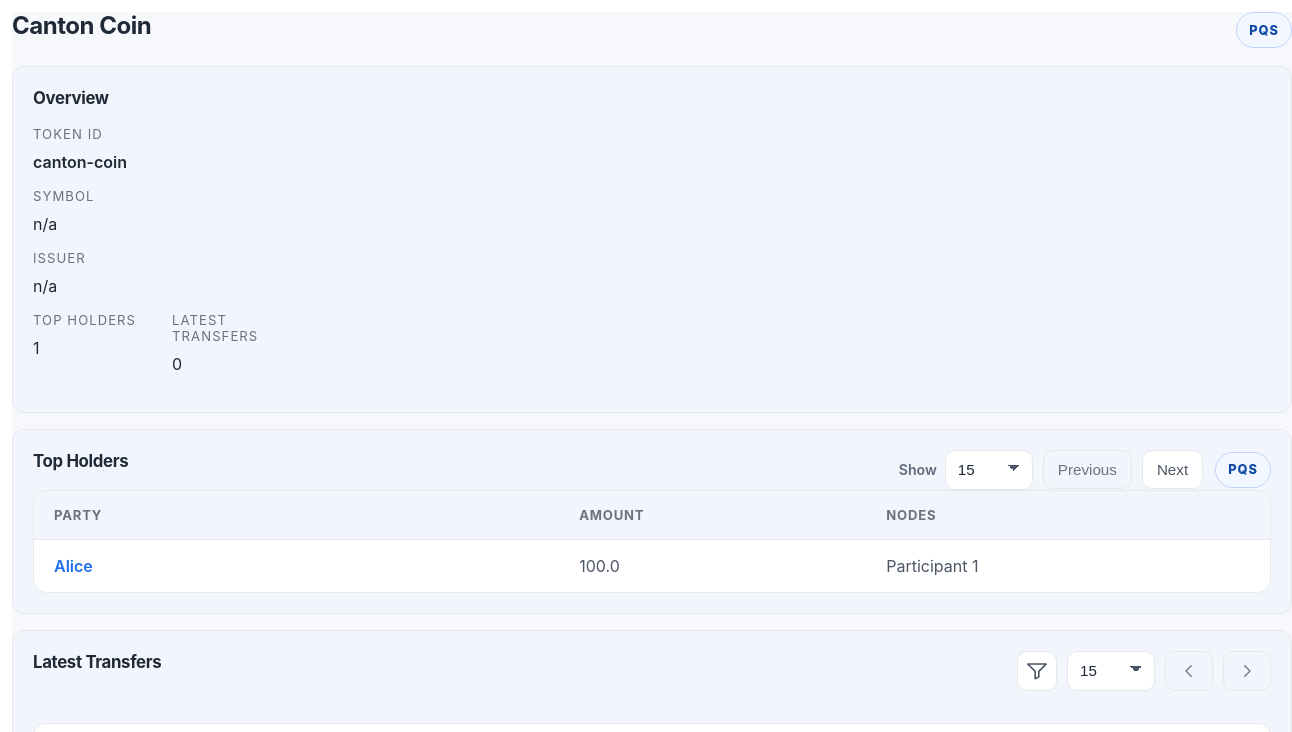
Scenario: TokenDetailView › paginates top holders with holder-specific cursors
Expected: the link "Alice" is shown, x1=54 y1=556 x2=93 y2=576
Click the button "Next". click: (1172, 470)
box: x1=1142 y1=450 x2=1203 y2=489
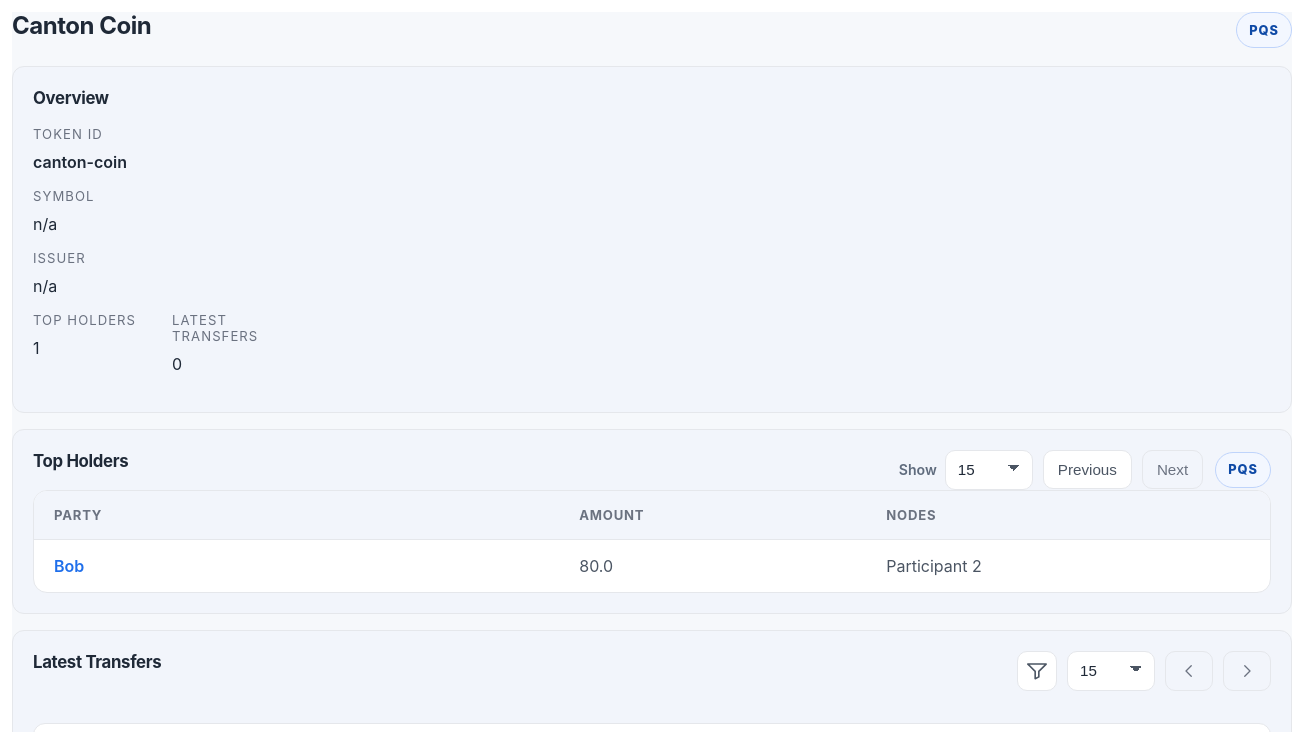
Now the link "Bob" is shown, box x1=54 y1=556 x2=84 y2=576
Now the button "Previous" is enabled
Click the button "Previous". click: (1087, 470)
box: x1=1043 y1=450 x2=1132 y2=489
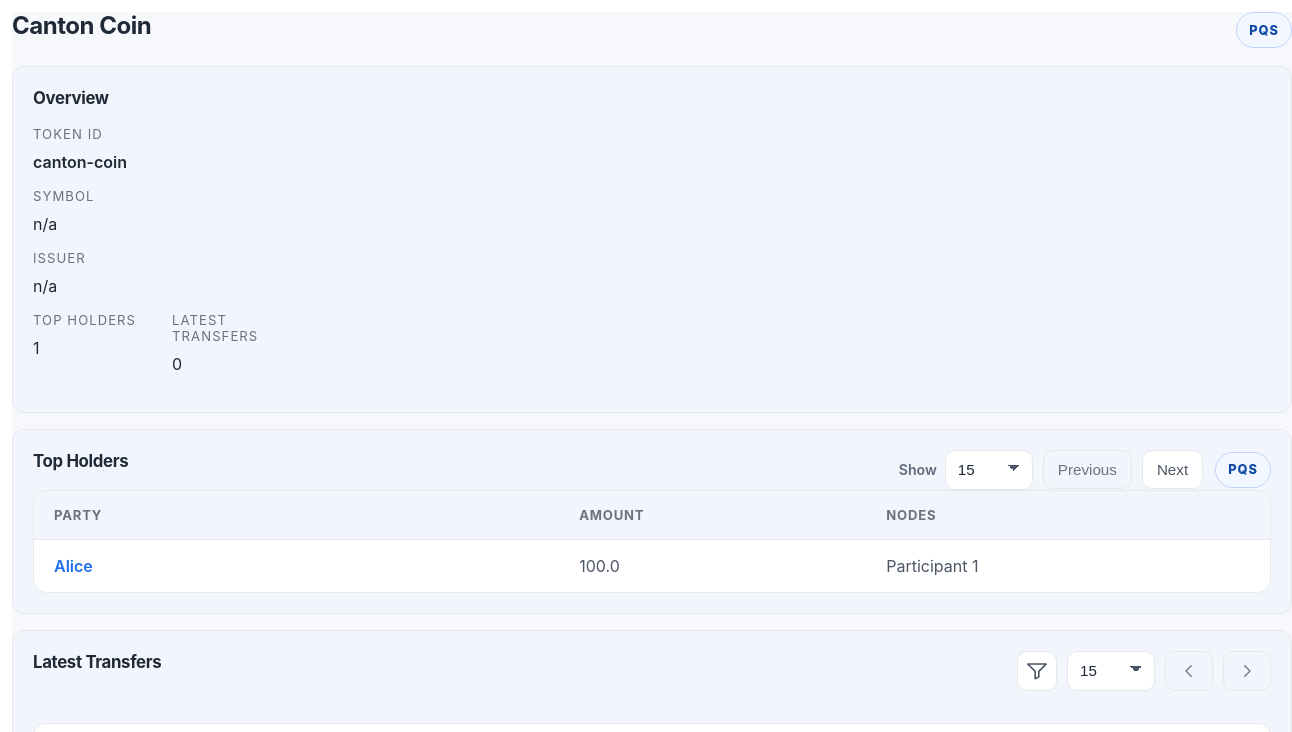
Now the link "Alice" is shown, box x1=54 y1=556 x2=93 y2=576
